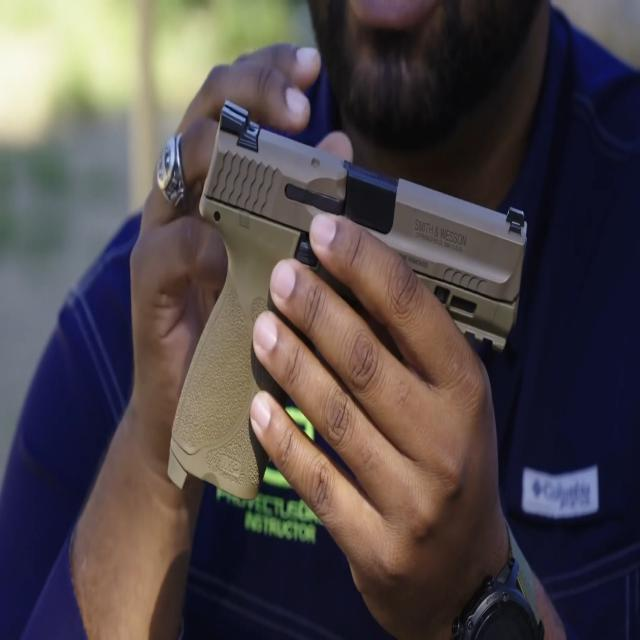handgun: (152, 71, 535, 489)
